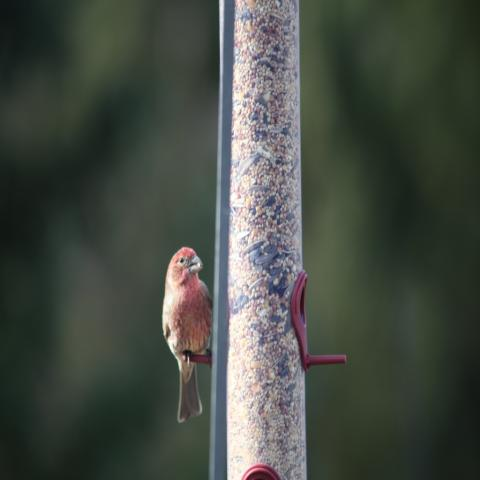bird: (160, 243, 214, 423)
